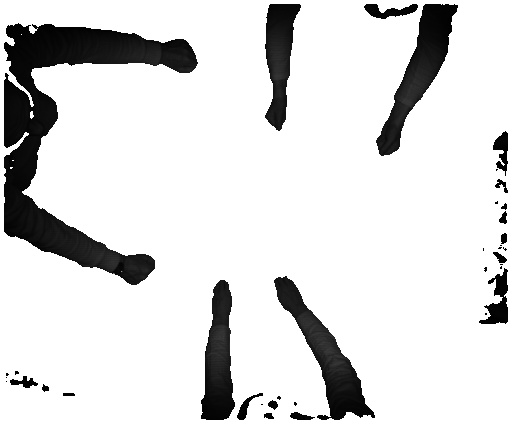fist: (162, 35, 199, 79), (122, 251, 159, 287), (376, 121, 407, 159), (264, 98, 287, 135)
hand: (272, 272, 309, 314), (208, 280, 231, 322)
